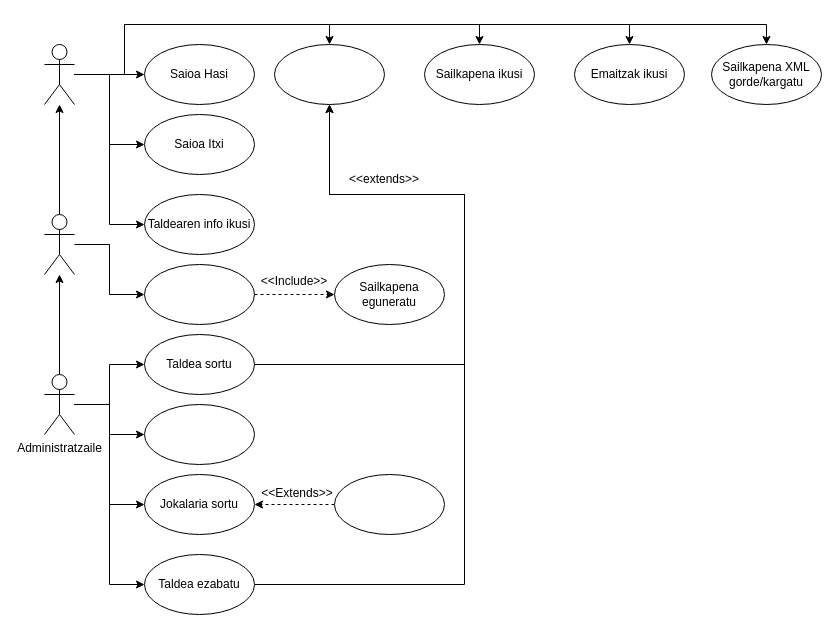
The diagram is 839 pixels wide and 632 high, and some of its shapes have lost their labels. The shapes that lost their labels are listed below. From the top down, each one's centre as x and y in pixels, then its label:
At pixel 59 74: "Erabiltzaile".
At pixel 329 74: "Taldeak ikusi".
At pixel 59 244: "Epaile".
At pixel 199 294: "Emaitzak gehitu".
At pixel 199 434: "Jokalaria ezabatu".
At pixel 389 504: "Argazkia gehitu".
